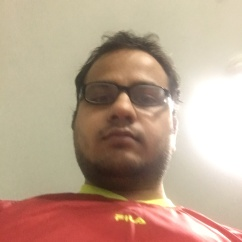glasses: (77, 81, 168, 107)
